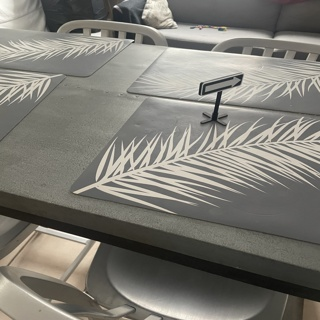sign_oneway_right: (202, 70, 244, 96)
